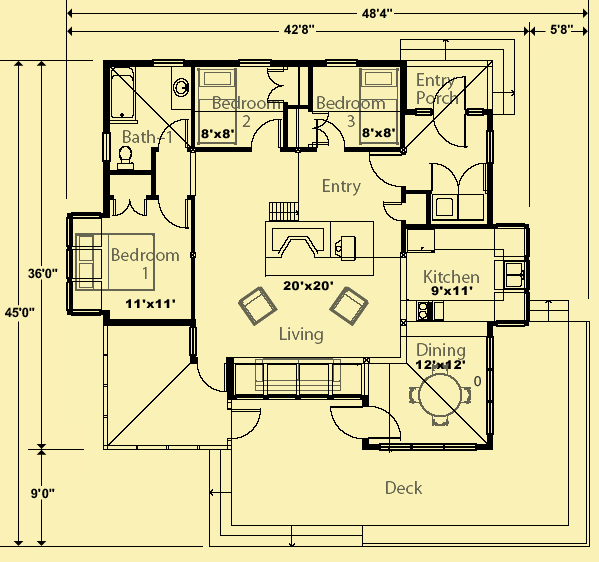bed: (74, 231, 159, 294)
door: (428, 158, 486, 191), (362, 405, 402, 442), (366, 152, 404, 190), (433, 112, 470, 150), (430, 75, 468, 109), (156, 192, 190, 228), (330, 404, 364, 439), (227, 408, 261, 442), (197, 361, 227, 396), (109, 194, 150, 218), (265, 63, 288, 104), (251, 118, 281, 149), (159, 117, 188, 148), (382, 201, 403, 222)
large_sink: (114, 144, 135, 172)
round_table: (406, 366, 475, 428)
small_sink: (168, 63, 195, 109)
small_sofa: (237, 286, 280, 327), (330, 284, 369, 328)
stairs: (266, 197, 302, 222)
tub: (110, 69, 139, 124)
twin_sink: (505, 259, 527, 294)
windows: (62, 212, 76, 309), (234, 56, 276, 70), (322, 57, 361, 68), (485, 128, 494, 163), (149, 59, 188, 67)
